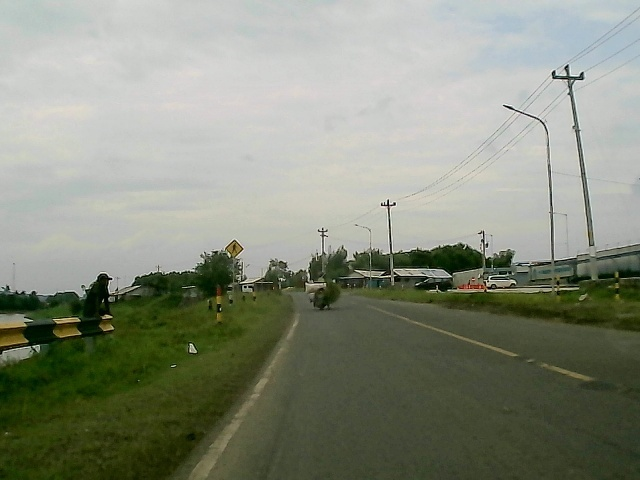Peringatan orang menyeberang: (224, 237, 242, 259)
